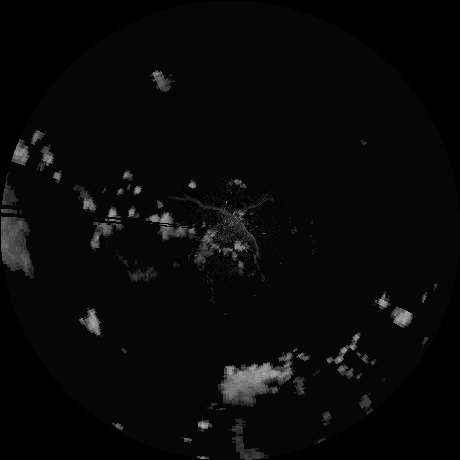frontgust: (183, 198, 261, 267)
